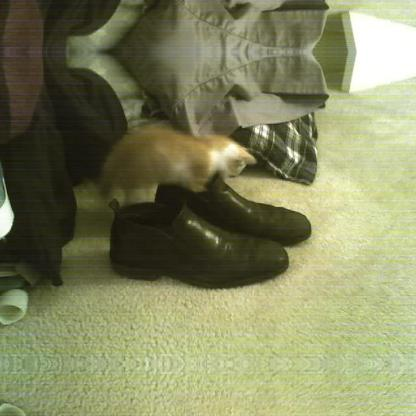Cat: (96, 124, 256, 216)
